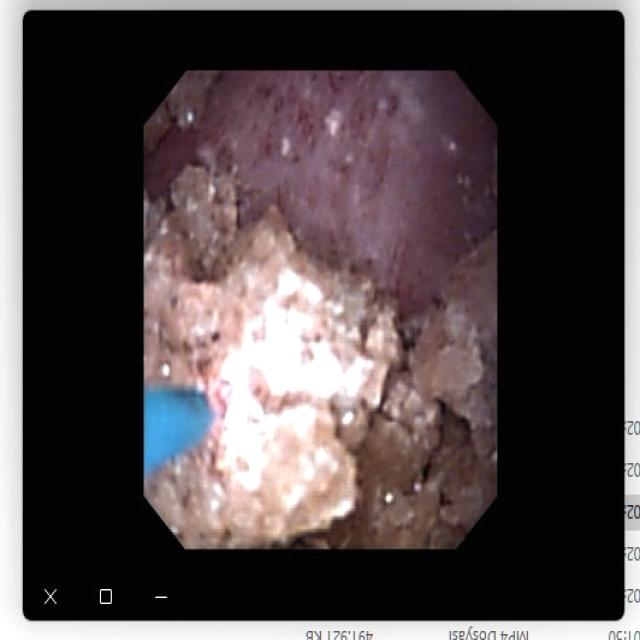fiber: (149, 398, 209, 467)
stone: (146, 175, 492, 543)
